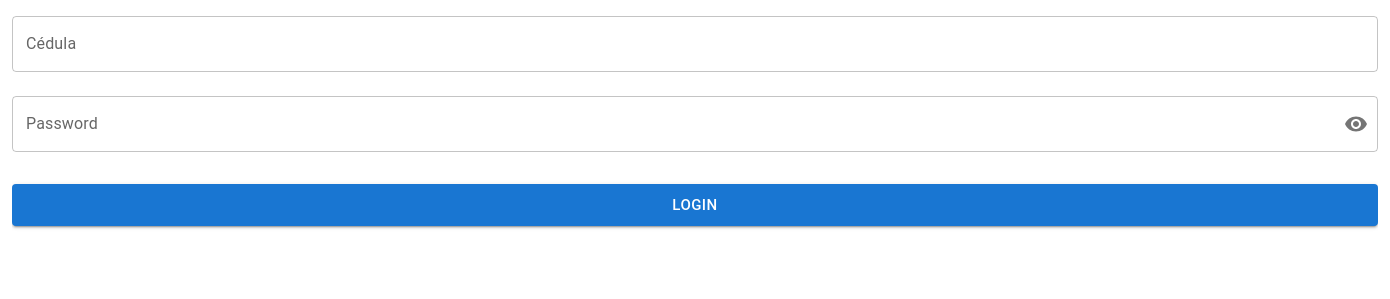
Test: LoginForm › validates required fields
Step 1. Click the button with test id "login-form-submit-button" → click(695, 205), box [12,184,1378,226]
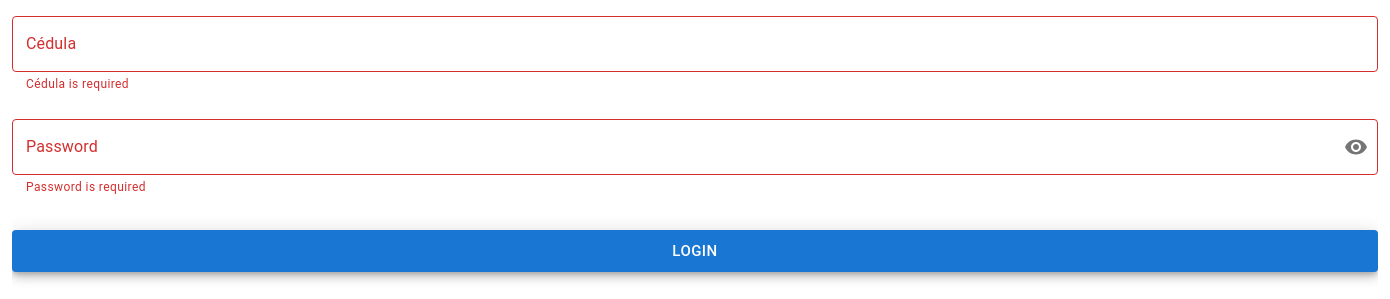
Now the text "Cédula is required" is shown, box [26,77,129,91]
Now the text "Password is required" is shown, box [26,180,146,194]
